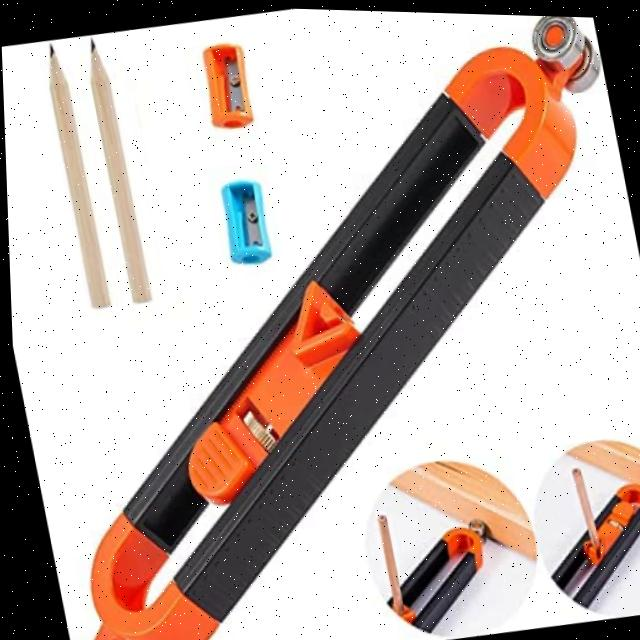pencil: (44, 41, 118, 317), (88, 36, 154, 309), (565, 459, 605, 559), (370, 507, 405, 608)
